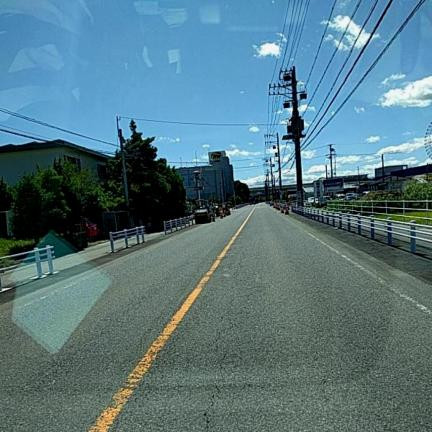Road: (0, 205, 431, 431)
